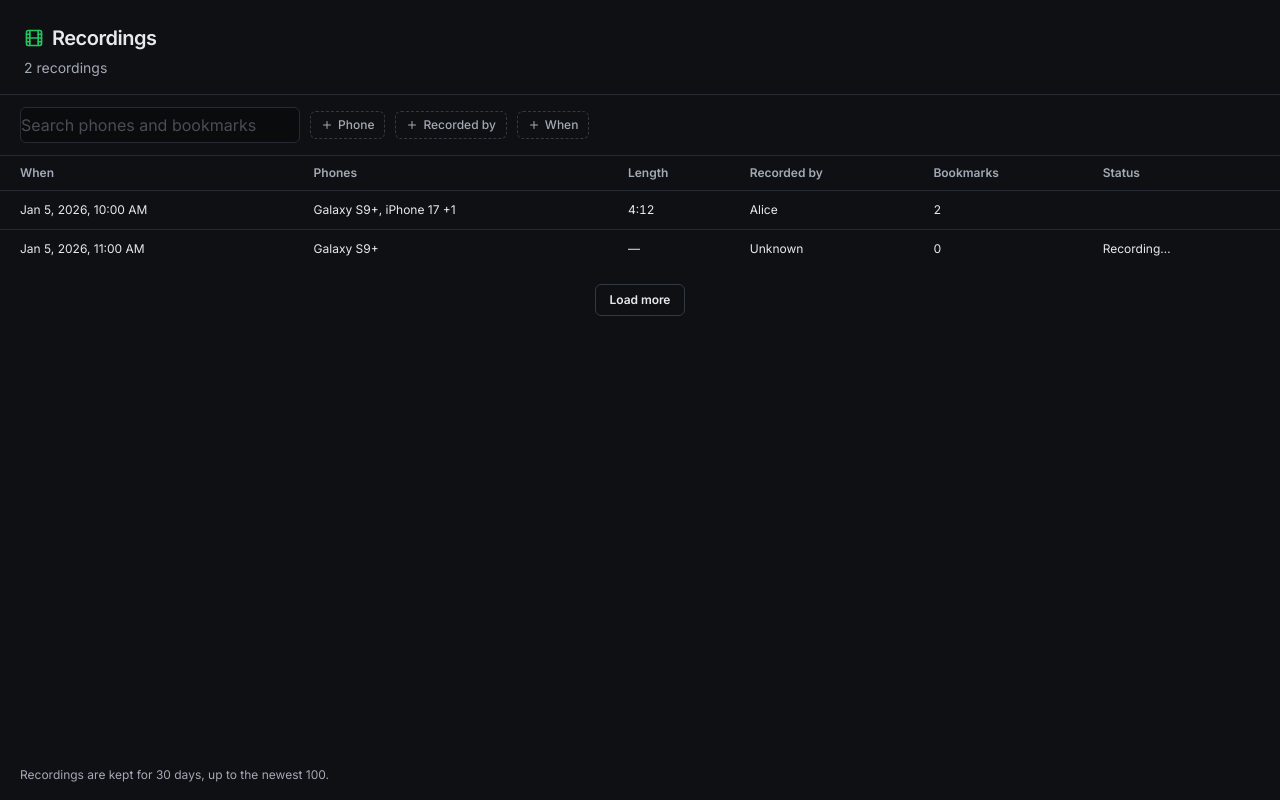
Test: RecordingsPage › drops a Load-more response that resolves after the filter has changed
Expected: the text "Galaxy S9+, iPhone 17 +1" is shown, [302,191,616,230]
Click the button "Load more". click: click(640, 300)
box: [595,284,685,316]
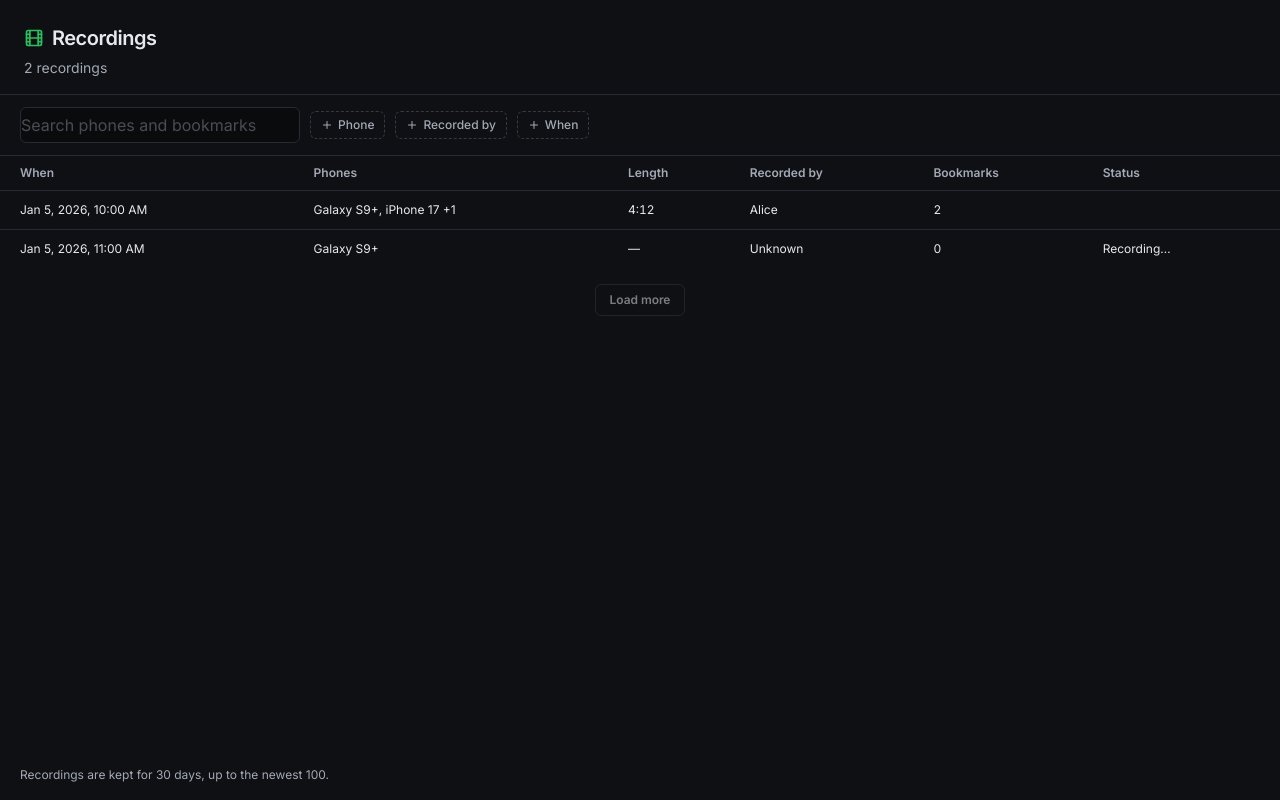
Click the button "Phone". click: click(348, 125)
box: [310,111,385,139]
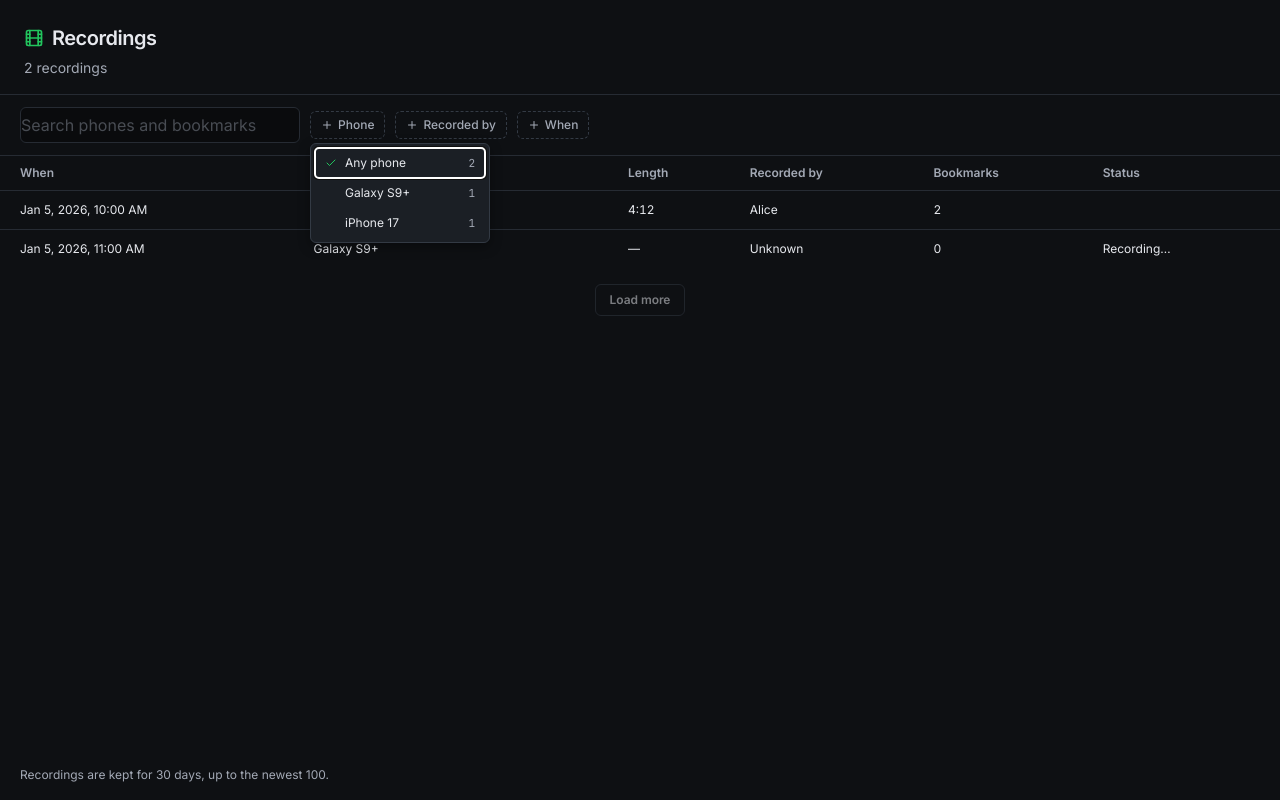
Click the menu item "Galaxy S9+ 1". click: click(400, 193)
box: [315,178,485,208]
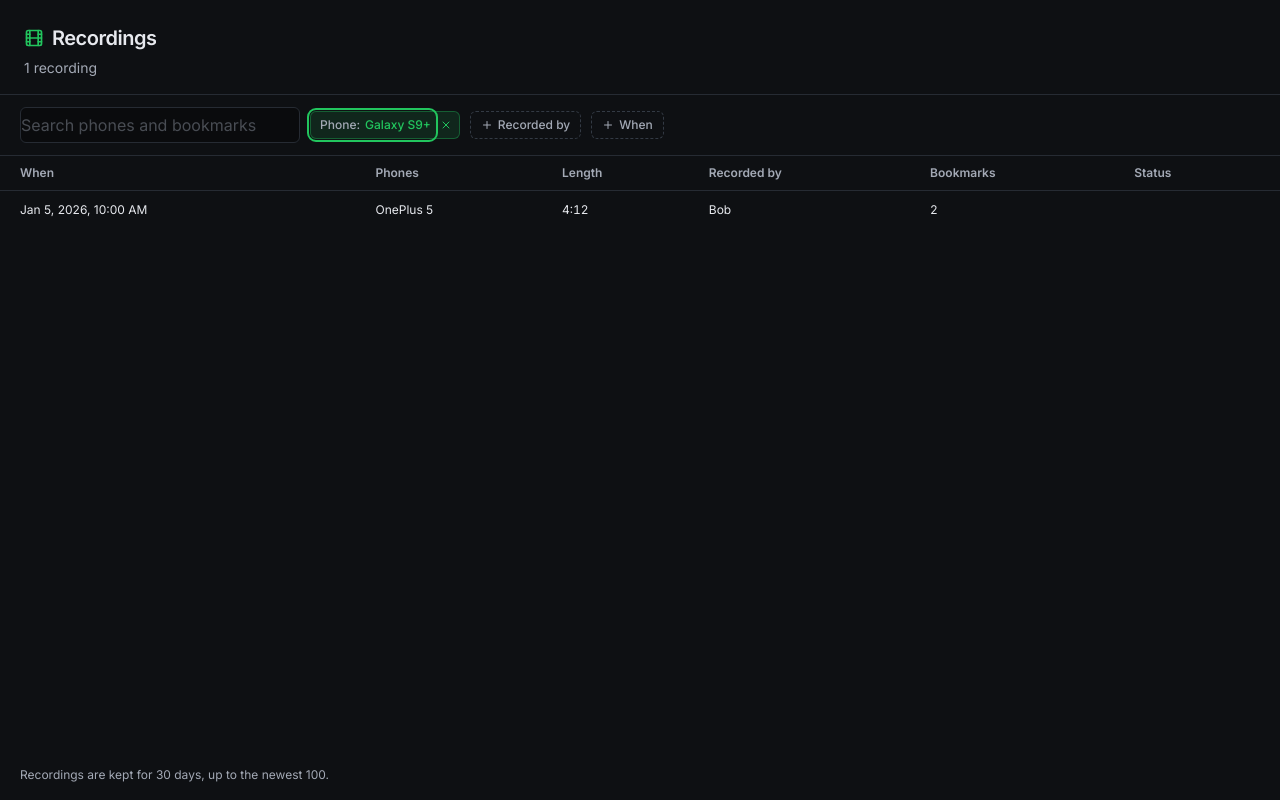
Expected: the number of rows is 2, [0,156,1279,190]; [0,191,1279,229]
Result: the text "Bob" is shown at [697,191,918,229]
